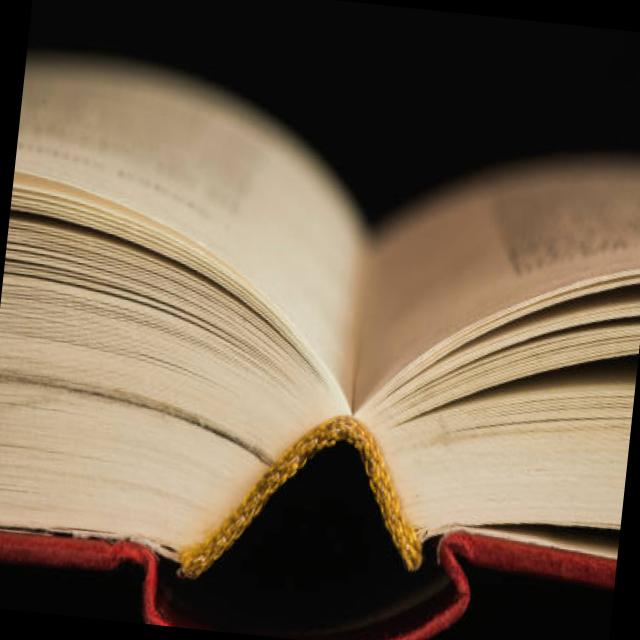electronic: (0, 45, 640, 628)
